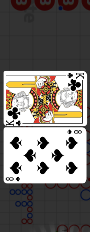8C: (5, 175, 22, 182)
KC: (64, 71, 86, 81)
